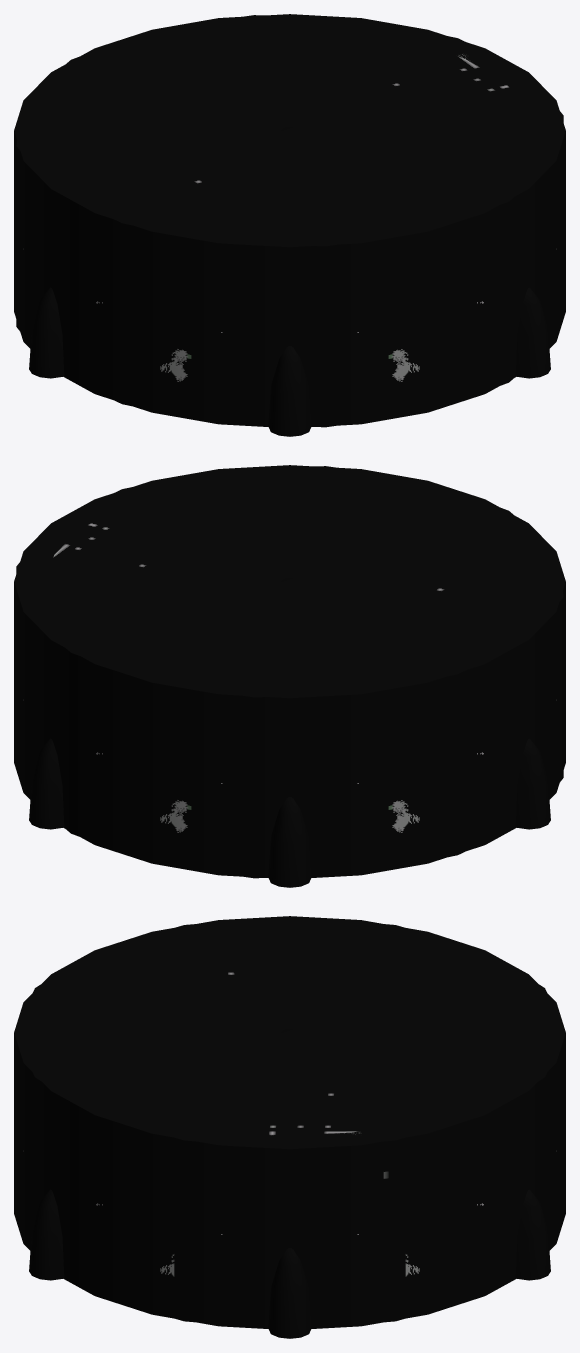
The model's file is Vega_Tankage.dae.
The picture shows the model from 3 angles, top to bottom: view 1: azimuth 30°, elevation 25°; view 2: azimuth 150°, elevation 25°; view 3: azimuth 270°, elevation 25°; orthographic projection.
Parts seen in each view (by area): view 1: Vega_Tankage_Merged_Vega_Tank, pCylinder155; view 2: Vega_Tankage_Merged_Vega_Tank, pCylinder155; view 3: Vega_Tankage_Merged_Vega_Tank, pCylinder155.
Boxes of the visible parts, x1,y1,x2,y2 form: Vega_Tankage_Merged_Vega_Tank: (14, 14, 565, 436); pCylinder155: (16, 15, 563, 427); Vega_Tankage_Merged_Vega_Tank: (14, 465, 565, 887); pCylinder155: (16, 466, 563, 878); Vega_Tankage_Merged_Vega_Tank: (14, 916, 565, 1338); pCylinder155: (14, 916, 565, 1322).
Size of the model in its own units: 2.02 by 0.6795 by 1.88.
